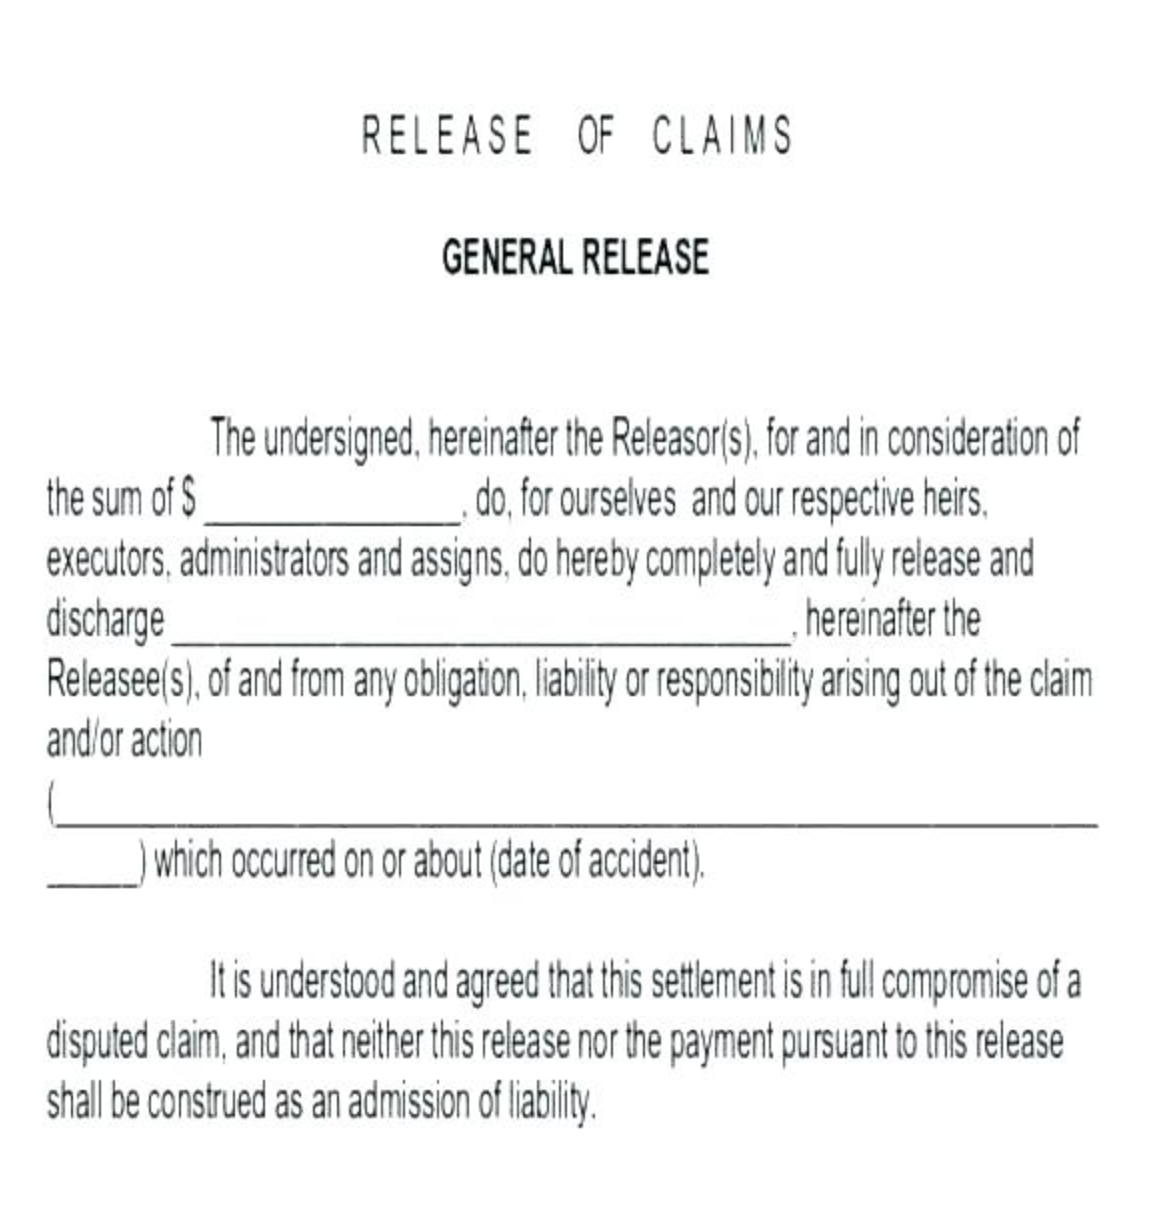textline: (56, 774, 1110, 836), (165, 590, 806, 650), (194, 473, 471, 536), (41, 840, 138, 895)
